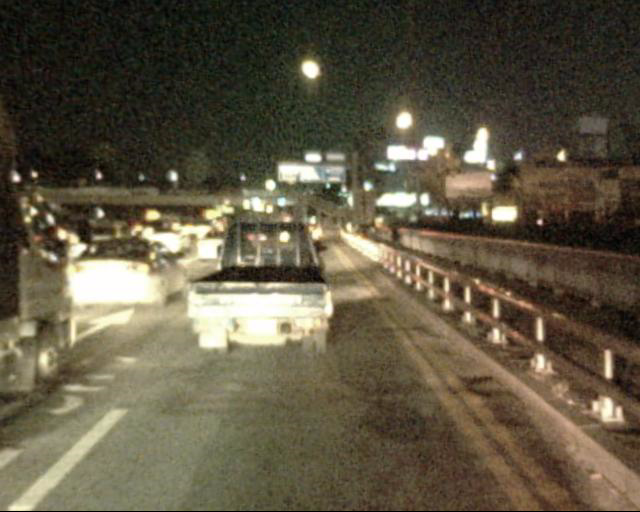person: (384, 212, 412, 256)
